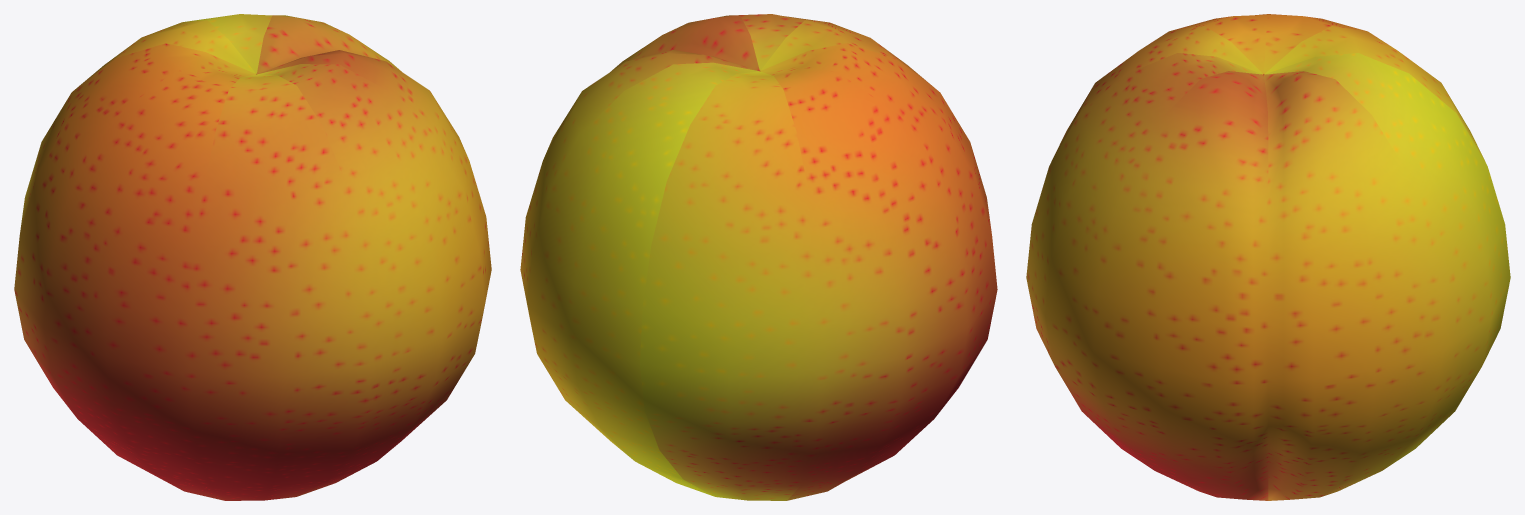
The model's file is peach.FBX.
The picture shows the model from 3 angles, left to right: view 1: azimuth 30°, elevation 25°; view 2: azimuth 150°, elevation 25°; view 3: azimuth 270°, elevation 25°; orthographic projection.
Visible parts, largest first — view 1: Peach; view 2: Peach; view 3: Peach.
Part boxes in pixels (x1=…): Peach: x1=14, y1=14, x2=491, y2=500; Peach: x1=520, y1=14, x2=997, y2=500; Peach: x1=1026, y1=14, x2=1510, y2=500.
Bounding box in the file's own units: 6.92 × 7.09 × 6.93.
